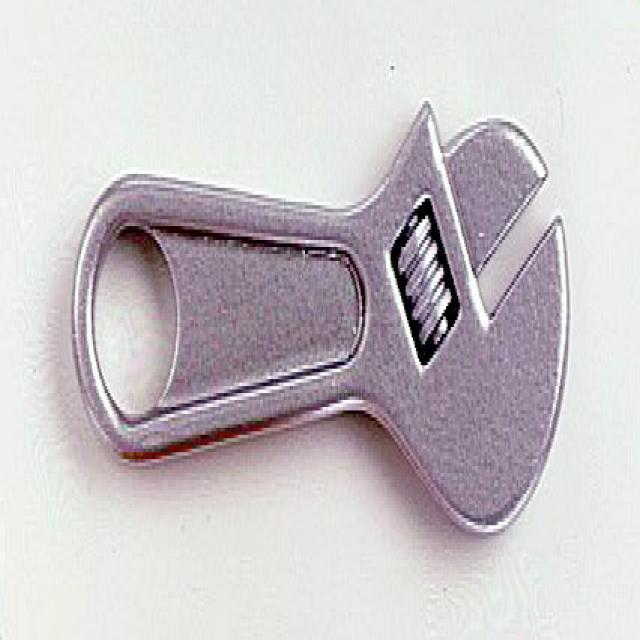wrench: (66, 88, 576, 552)
